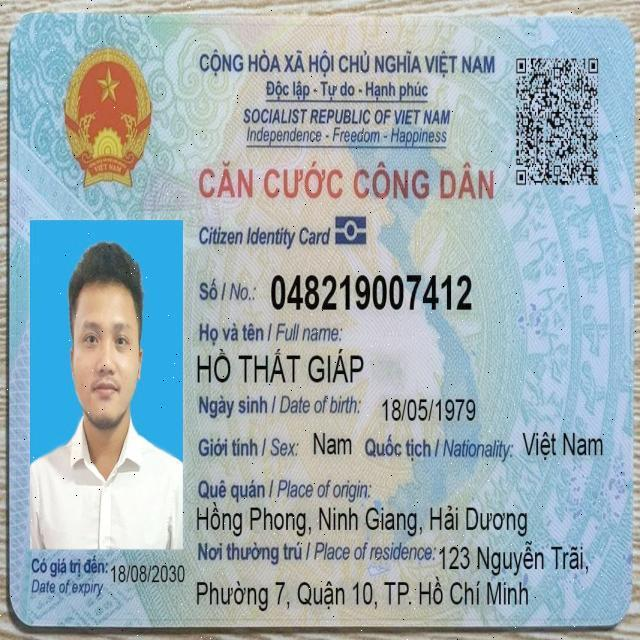current_place: (193, 574, 533, 614), (437, 538, 592, 578)
dob: (380, 393, 478, 428)
expire_date: (109, 559, 188, 589)
gender: (310, 427, 354, 460)
id: (268, 266, 475, 318)
name: (195, 344, 366, 391)
nationality: (520, 427, 606, 464)
origin_place: (192, 497, 532, 540)
